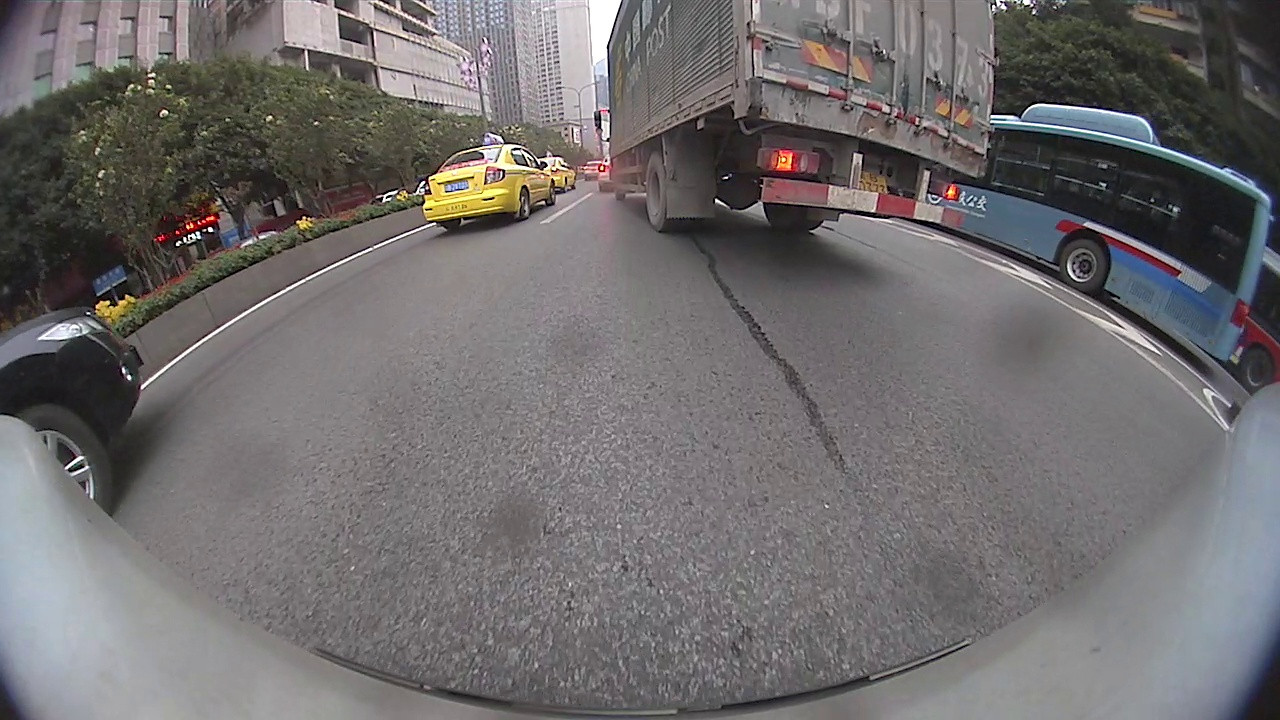bus: (939, 93, 1269, 366), (1226, 246, 1279, 388)
car: (0, 303, 145, 520), (425, 142, 559, 229)
front: (10, 400, 119, 519), (1238, 350, 1274, 393)
rear: (645, 148, 706, 234), (1058, 238, 1109, 294), (518, 186, 531, 221)
truck: (593, 3, 995, 234)
